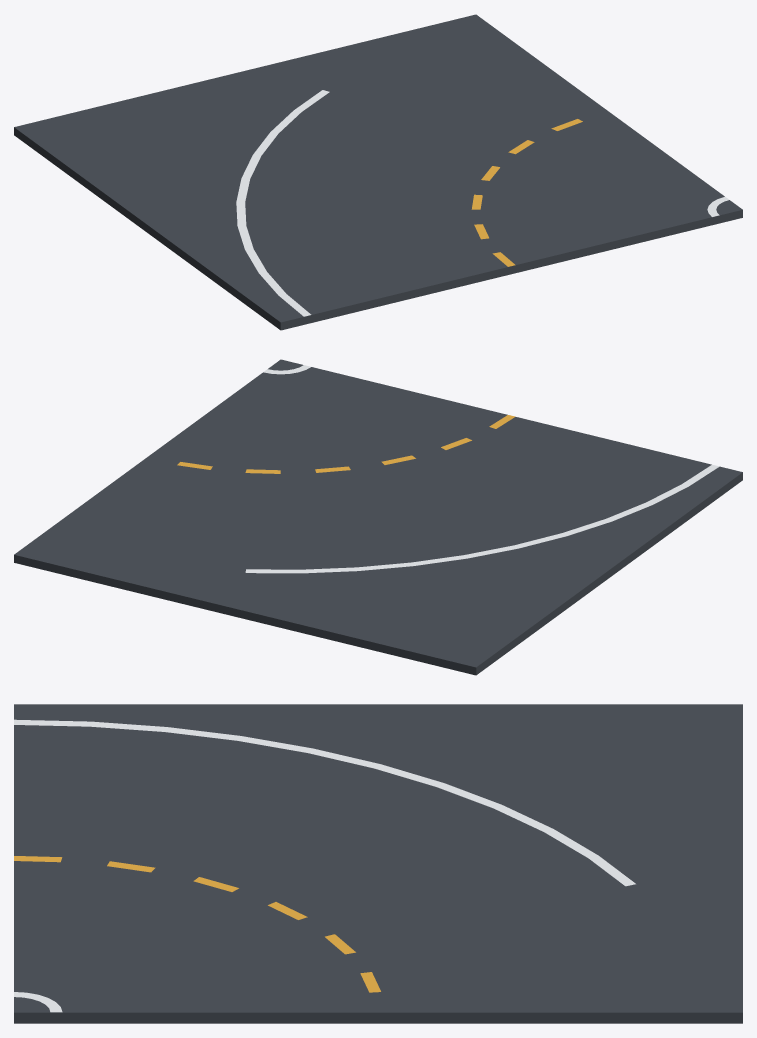
Rendered from CM_Road_Corner.fbx.
3 views of the same model, one above another, from view 1: azimuth 30°, elevation 25°; view 2: azimuth 150°, elevation 25°; view 3: azimuth 270°, elevation 25° (orthographic). The views are drawn at different scales.
Visible parts, largest first — view 1: Road; view 2: Road; view 3: Road.
Part boxes in pixels (<box>): Road: <box>14,14,742,330</box>; Road: <box>14,359,742,675</box>; Road: <box>14,704,742,1023</box>.
Size of the model in its own units: 24 by 24 by 0.403.
Materials: 1 (1 with a texture image).
